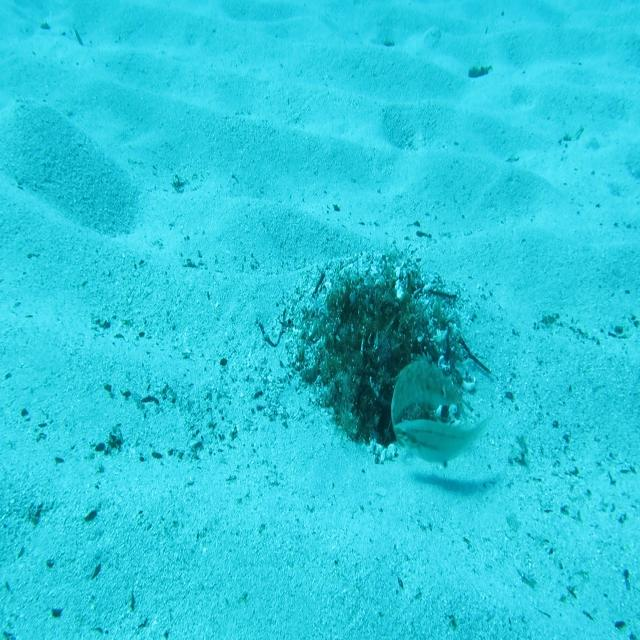DAN_CIRC: (389, 349, 461, 451)
core_nest: (351, 294, 394, 348)
female: (392, 416, 492, 468)
nest: (274, 236, 480, 475)
vegetation: (466, 61, 491, 79)
